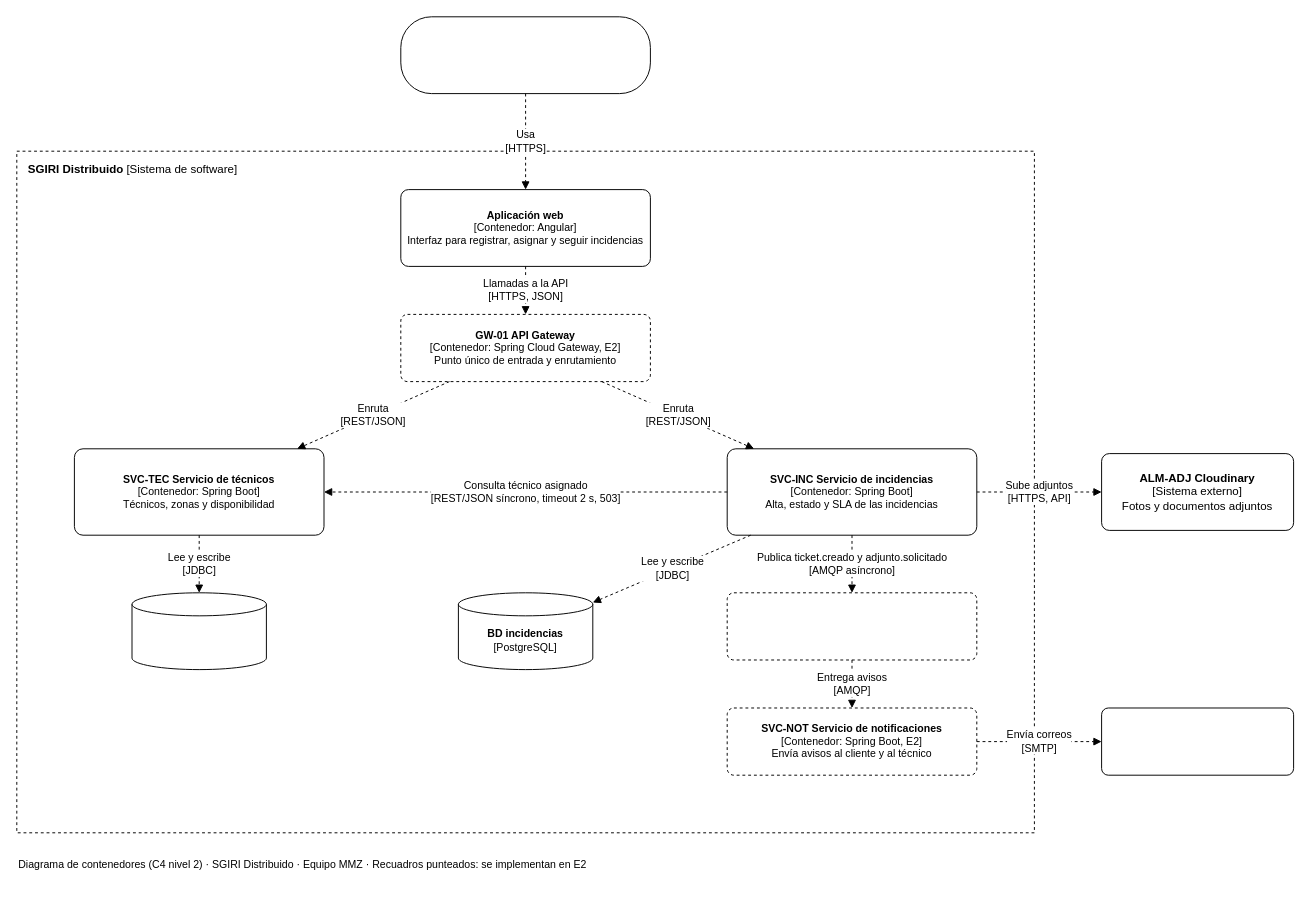
Some shapes in this 1310 by 898 pixel diagram are drawn without their labels. The centre of each missing label's shape, as x and y in pixels:
BD técnicos [PostgreSQL]: point 198,631
Broker de mensajes [Contenedor: RabbitMQ, E2] Colas de avisos y adjuntos: point 851,626
Cliente, agente, técnico y administrador [Personas]: point 525,55
Servidor SMTP [Sistema externo]: point 1197,741
